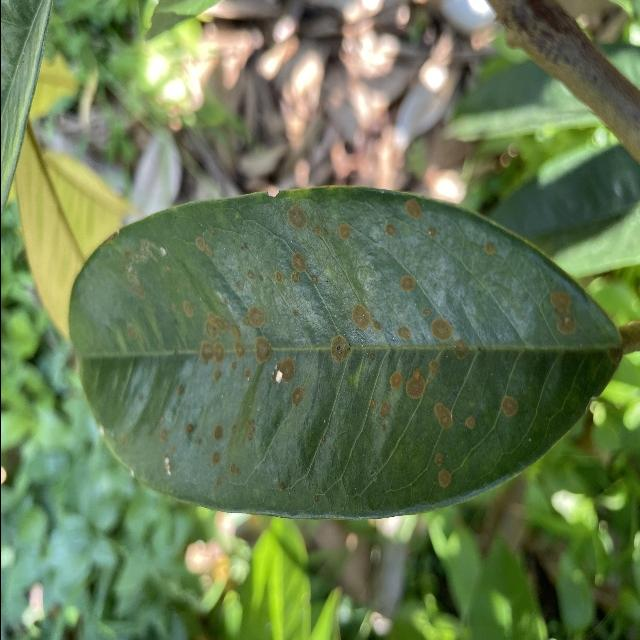Algal Leaf Spot: (57, 179, 633, 529)
